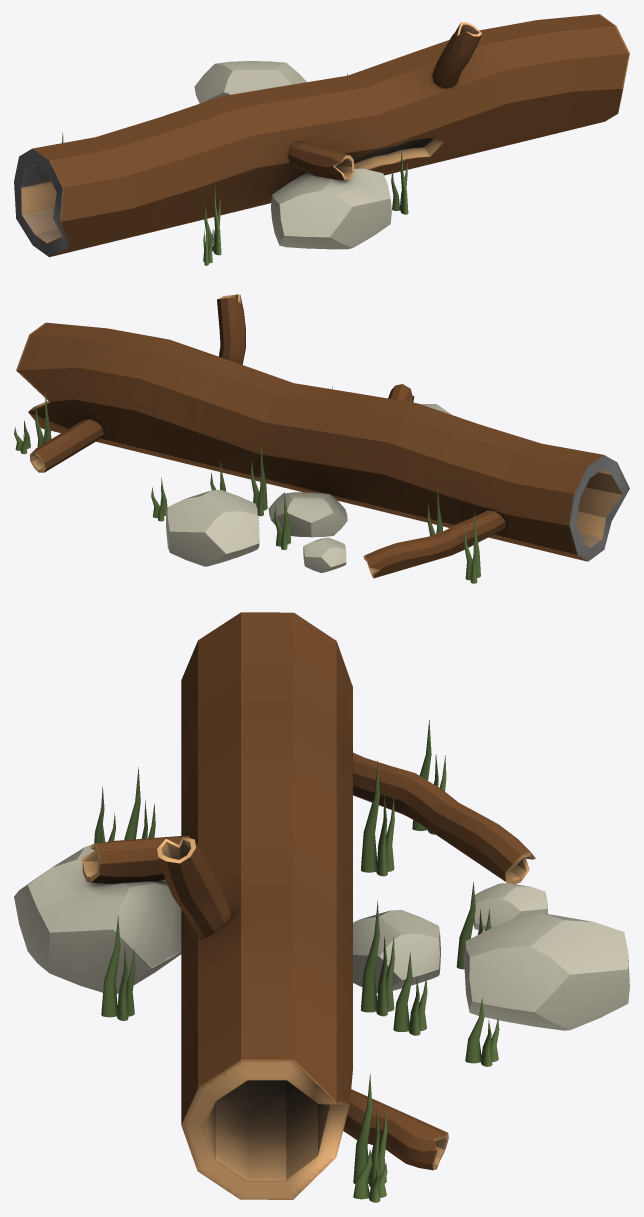
File: LP-Log.Fbx
3 views of the same model, one above another, from view 1: azimuth 30°, elevation 25°; view 2: azimuth 150°, elevation 25°; view 3: azimuth 270°, elevation 25° (orthographic). The views are drawn at different scales.
Visible parts, largest first — view 1: pCylinder9, pPlatonic9, pCone25; view 2: pCylinder9, pPlatonic9, pCone25; view 3: pCylinder9, pPlatonic9, pCone25.
Part boxes in pixels (<box>): pCylinder9: <box>14,14,629,257</box>; pPlatonic9: <box>194,61,391,249</box>; pCone25: <box>62,73,408,265</box>; pCylinder9: <box>16,294,629,578</box>; pPlatonic9: <box>166,404,451,572</box>; pCone25: <box>14,386,480,583</box>; pCylinder9: <box>82,612,535,1199</box>; pPlatonic9: <box>14,845,629,1030</box>; pCone25: <box>94,720,499,1202</box>.
Bounding box in the file's own units: 13.09 × 3.34 × 7.6.
